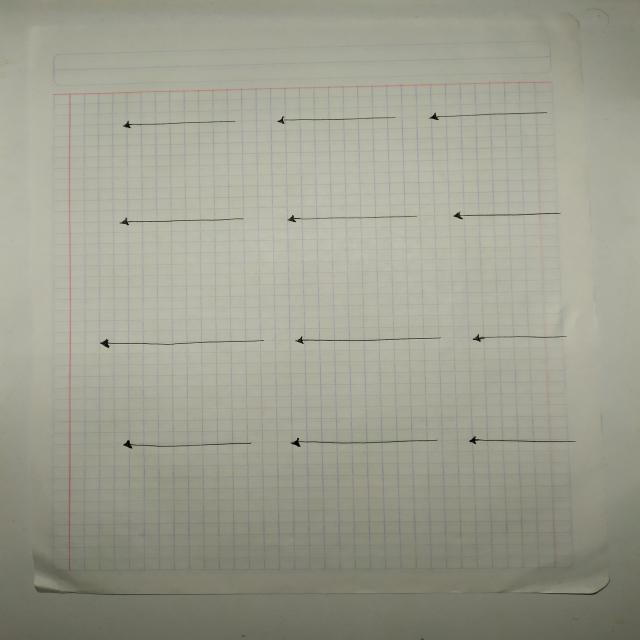arrow_line_left: (422, 106, 567, 135), (89, 333, 274, 355), (282, 430, 448, 454), (109, 432, 266, 457), (267, 110, 408, 136), (111, 212, 255, 234), (113, 113, 243, 137), (276, 211, 426, 231), (286, 331, 452, 349), (460, 432, 586, 454), (442, 209, 566, 227), (464, 330, 578, 348)
